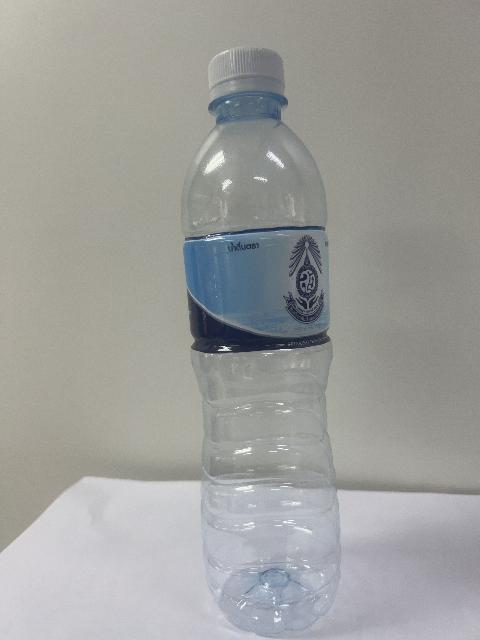bottle: (182, 47, 340, 635)
